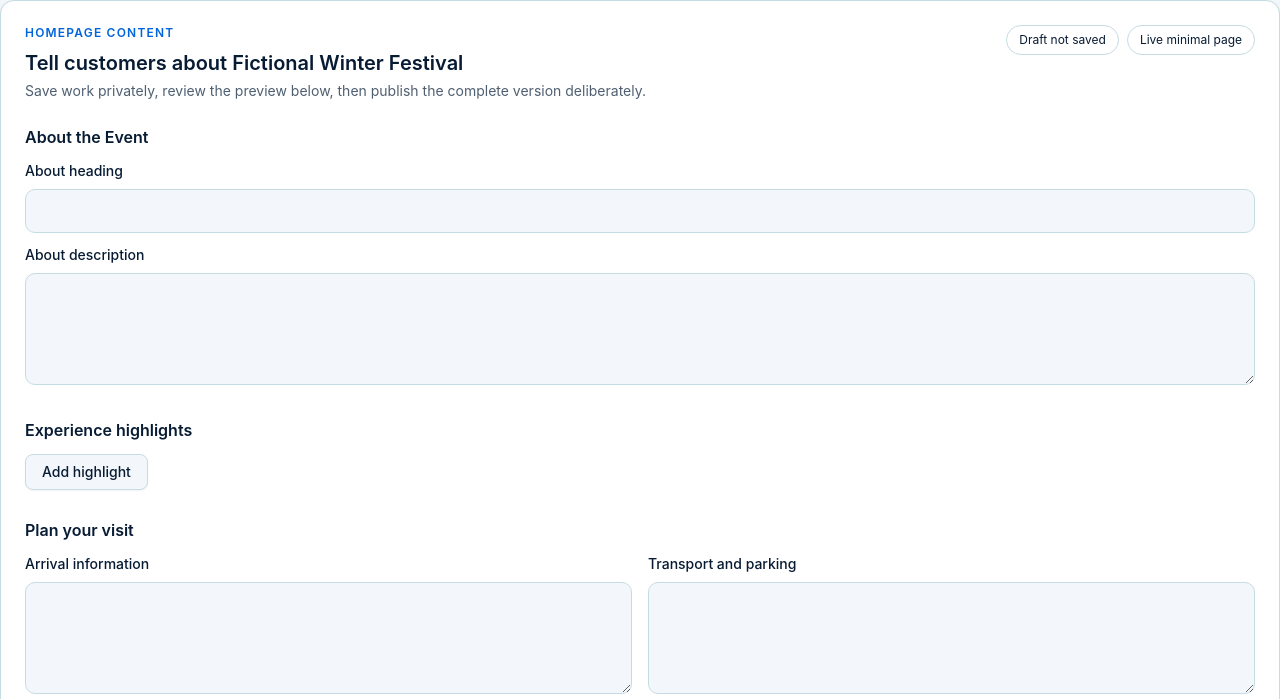
Test: EventSiteContentWorkspace › saves structured content as a private draft before publication
Type "A fictional family skating Event." into the text box labelled "About description".
click(640, 329); type("A fictional family skating Event.")  # box x1=25 y1=273 x2=1255 y2=385
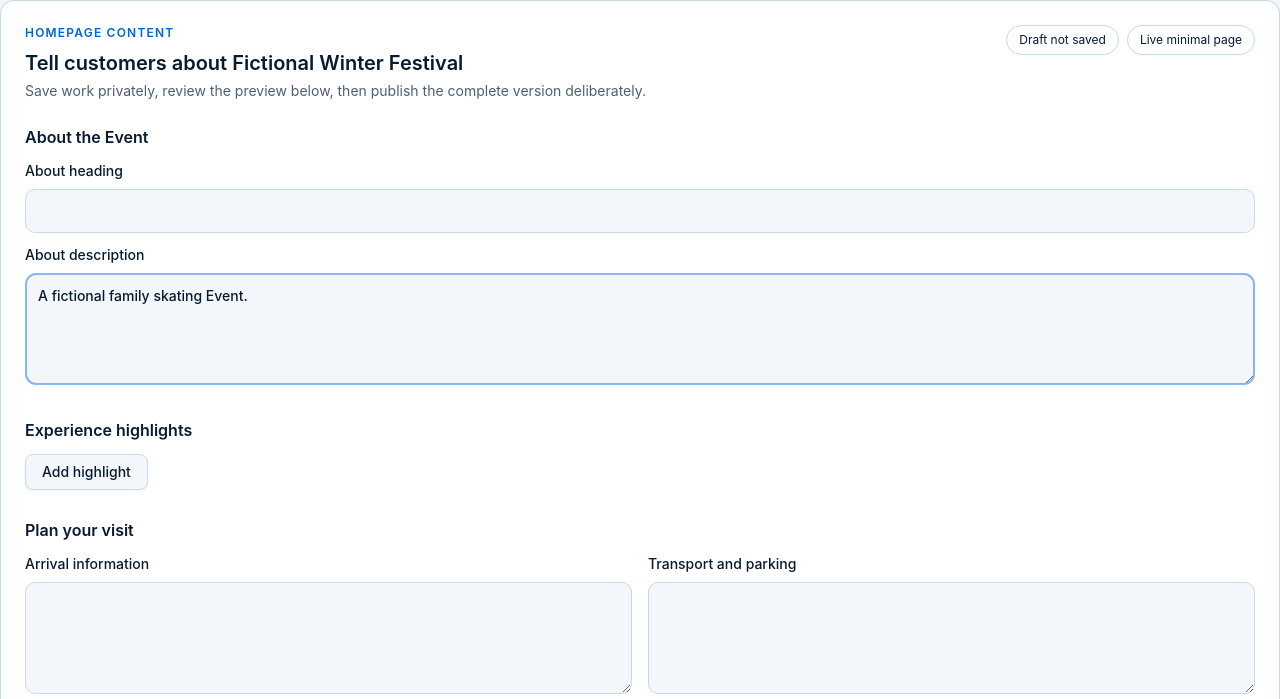
Click the button "Add highlight".
click(86, 472)  # box x1=25 y1=454 x2=148 y2=490
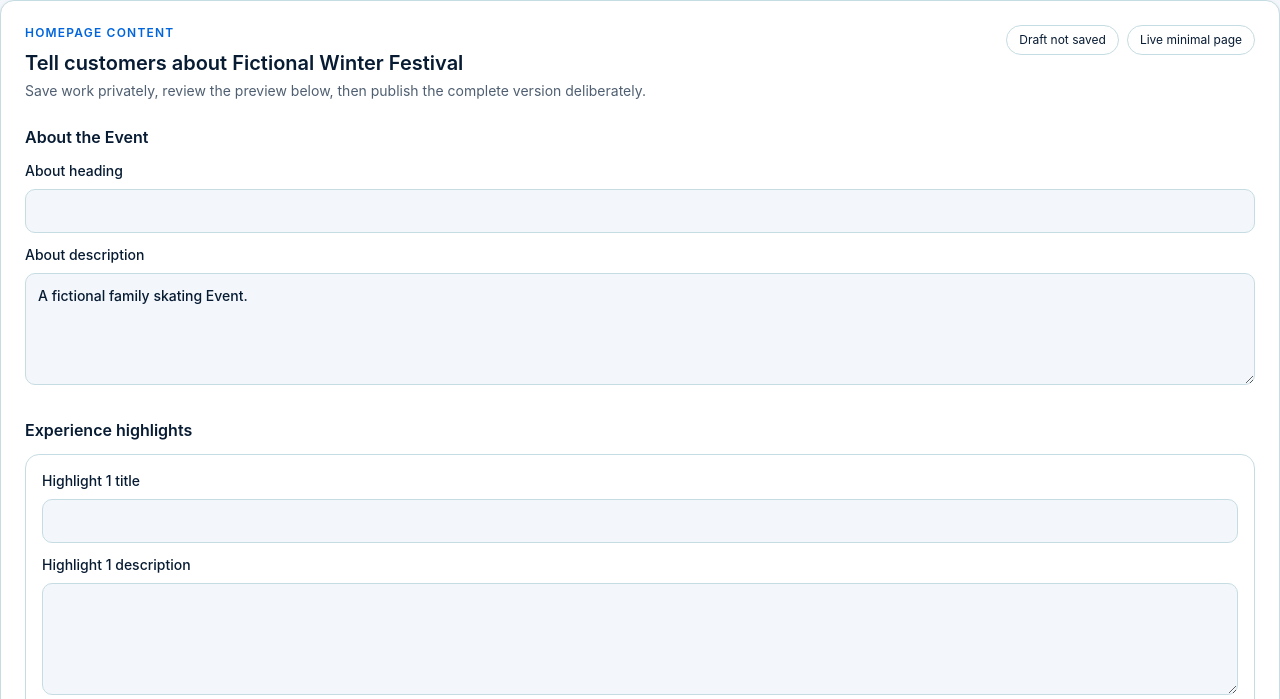
Type "Ice skating" into the field labelled "Highlight 1 title".
click(640, 521); type("Ice skating")  # box x1=42 y1=499 x2=1238 y2=543
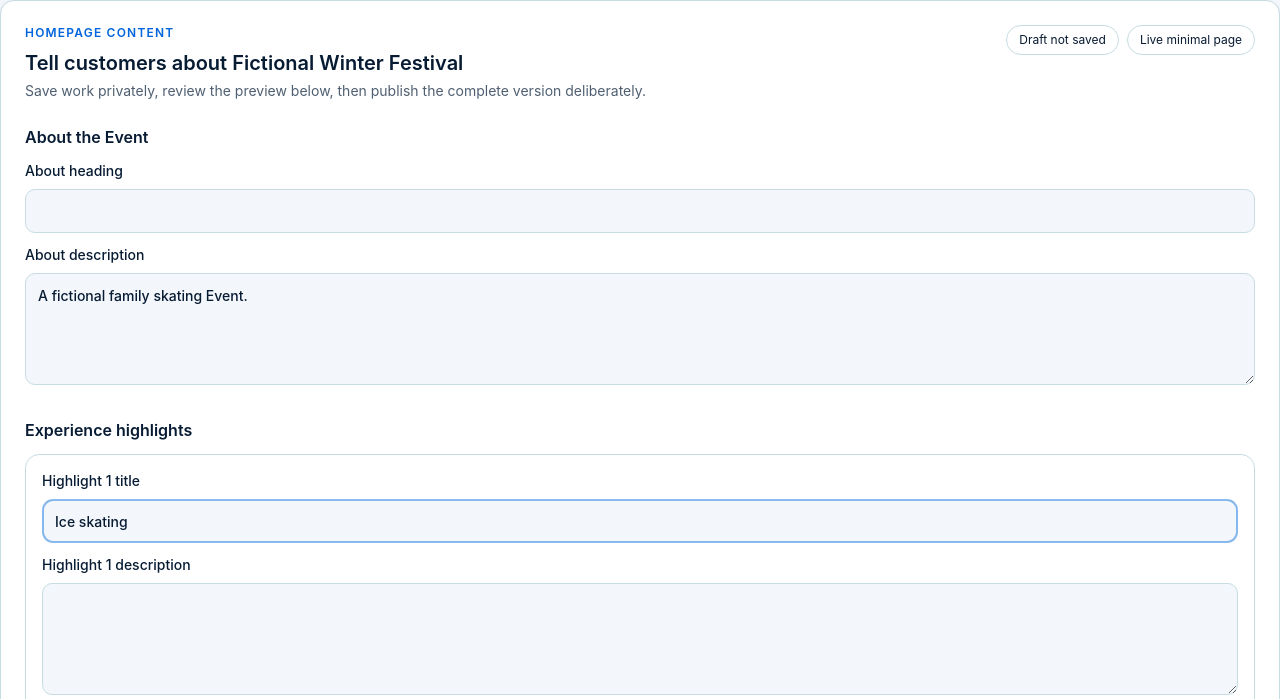
Type "Sessions for all ages." into the text box labelled "Highlight 1 description".
click(640, 639); type("Sessions for all ages.")  # box x1=42 y1=583 x2=1238 y2=695
(page scrolled)
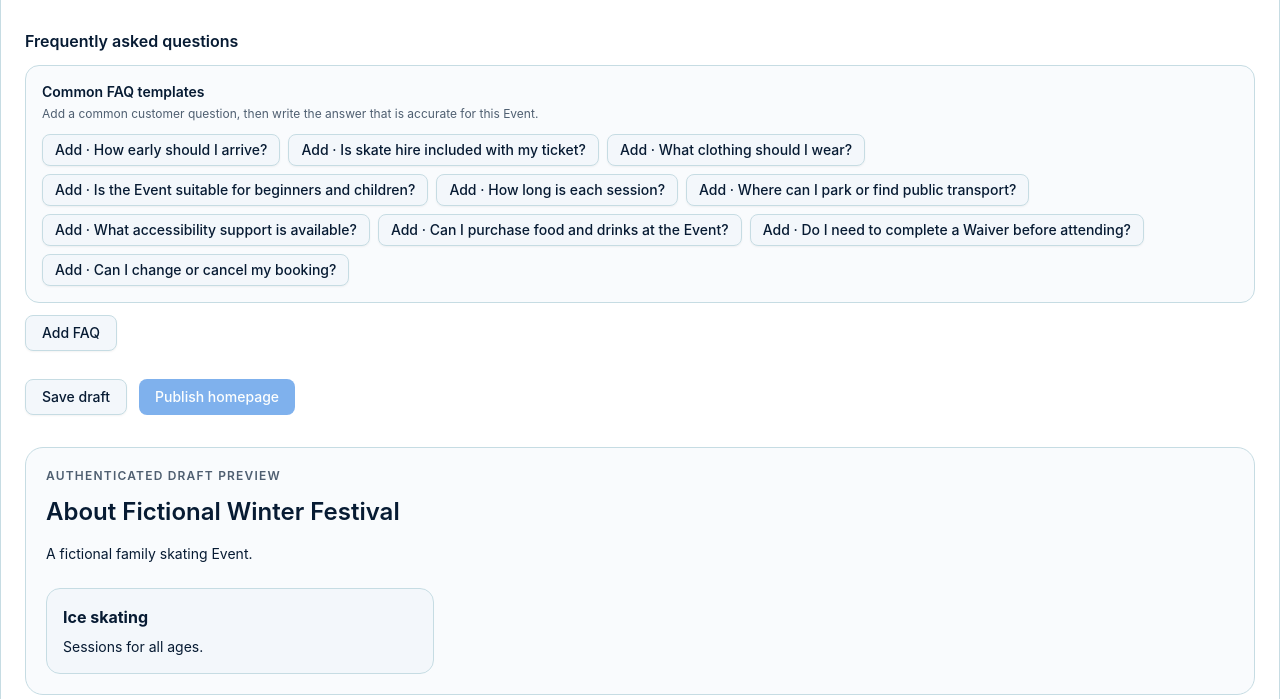
Click the button "Save draft".
click(76, 397)  # box x1=25 y1=379 x2=127 y2=415
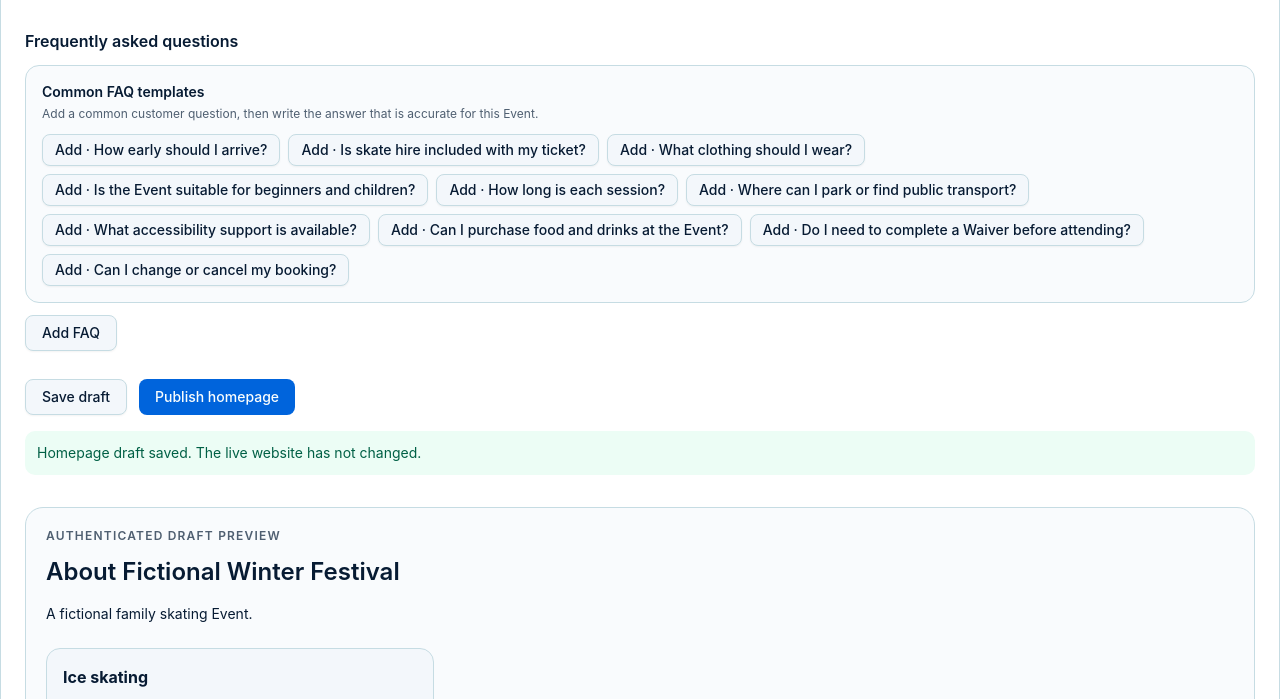
Now the message shows "live website has not changed", box x1=37 y1=444 x2=421 y2=461
